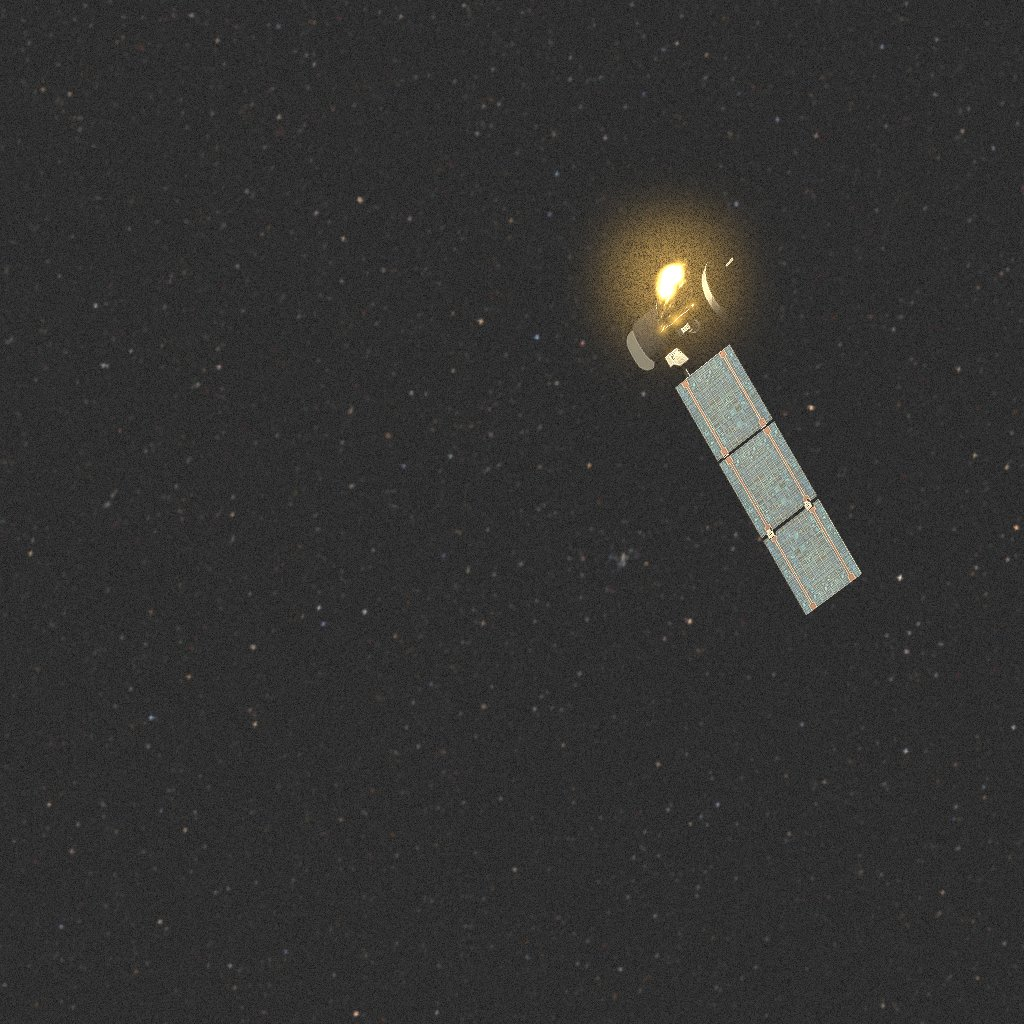earth_observation_sat_1: (627, 246, 863, 615)
